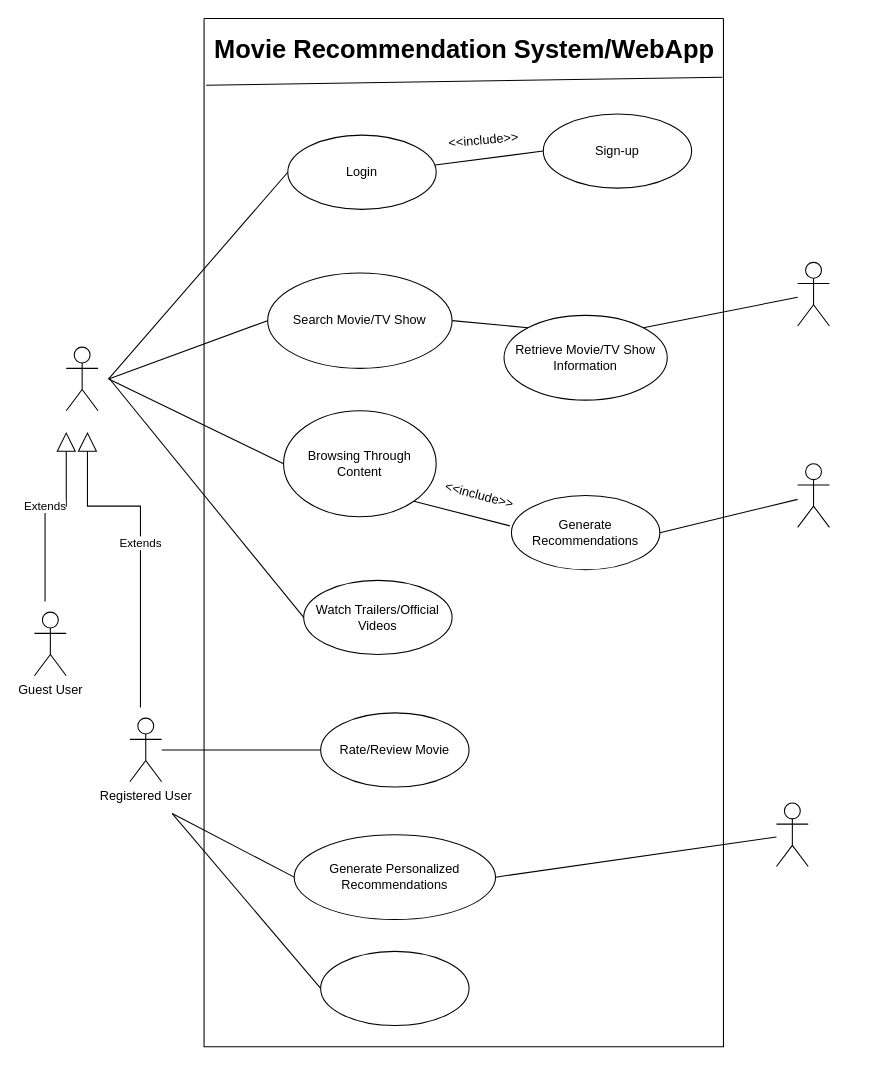
The diagram is 874 pixels wide and 1065 high, and some of its shapes have lost their labels. The centre of each missing label's shape, as x and y in pixels:
"Add To WatchList" belongs at (394,988).
"Collaborative Filtering Model" belongs at (791,834).
"Content-Based Filtering Model" belongs at (813,495).
"TMDb" belongs at (813,293).
"User" belongs at (81,378).
